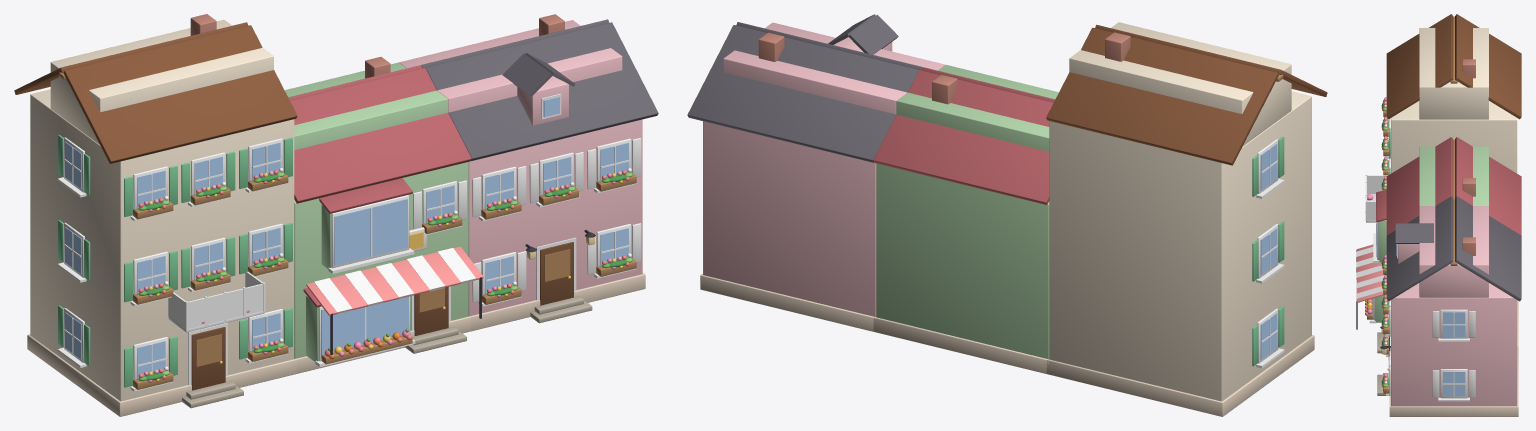
Rendered from terrace_c.glb.
3 renders of one model, left to right at view 1: azimuth 30°, elevation 25°; view 2: azimuth 150°, elevation 25°; view 3: azimuth 270°, elevation 25°, orthographic. The views are drawn at different scales.
Parts seen in each view (by area): view 1: terrace_c; view 2: terrace_c; view 3: terrace_c.
Part boxes in pixels (x1=…): terrace_c: x1=14, y1=14, x2=658, y2=416; terrace_c: x1=687, y1=14, x2=1327, y2=416; terrace_c: x1=1356, y1=14, x2=1521, y2=416.
Size of the model in its own units: 19.6 by 10.95 by 7.32.
